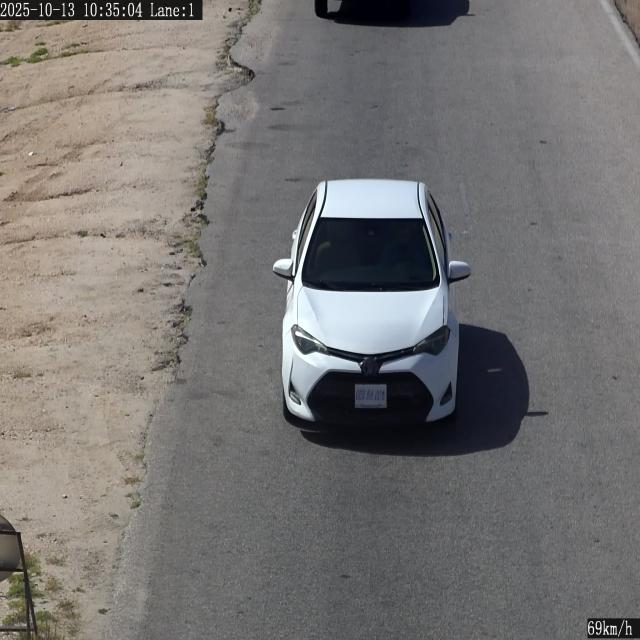BUS: (355, 385, 386, 408)
